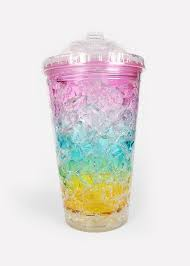glass: (40, 28, 150, 237)
